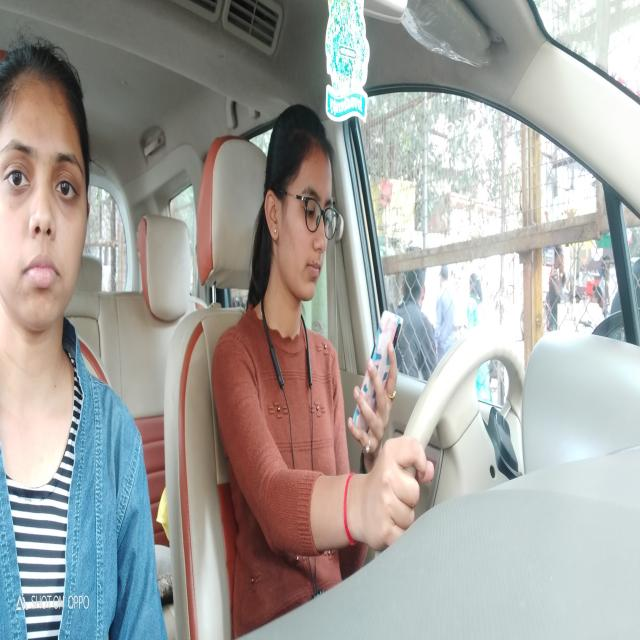mobile: (350, 305, 407, 445)
person: (0, 42, 96, 340), (262, 102, 338, 310)
